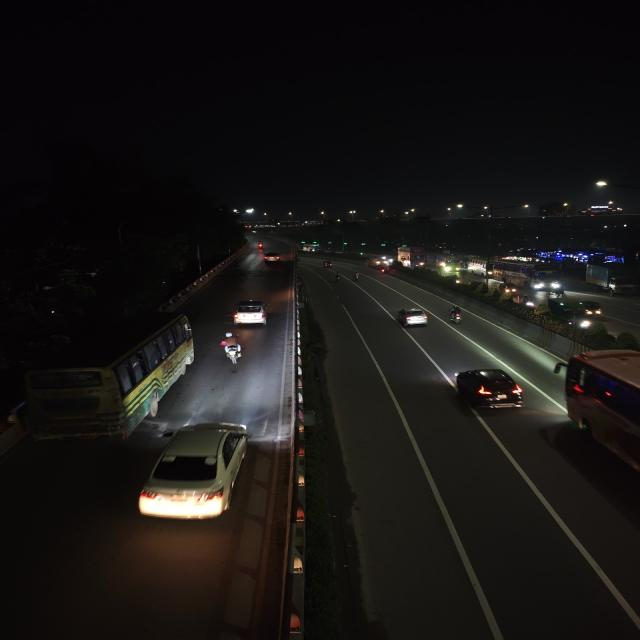bus: (23, 309, 195, 442), (555, 348, 640, 471), (493, 260, 562, 292), (396, 245, 428, 270), (426, 252, 461, 274), (467, 256, 500, 276)
car: (137, 417, 258, 525), (449, 365, 530, 413), (230, 298, 269, 328), (396, 305, 430, 329), (262, 251, 282, 264), (369, 257, 387, 268)
cng: (578, 300, 605, 318)
motorcycle: (216, 330, 246, 372), (446, 304, 466, 326), (322, 260, 335, 270), (352, 270, 363, 281), (255, 240, 265, 252), (332, 272, 341, 284)
truck: (584, 262, 637, 294)
